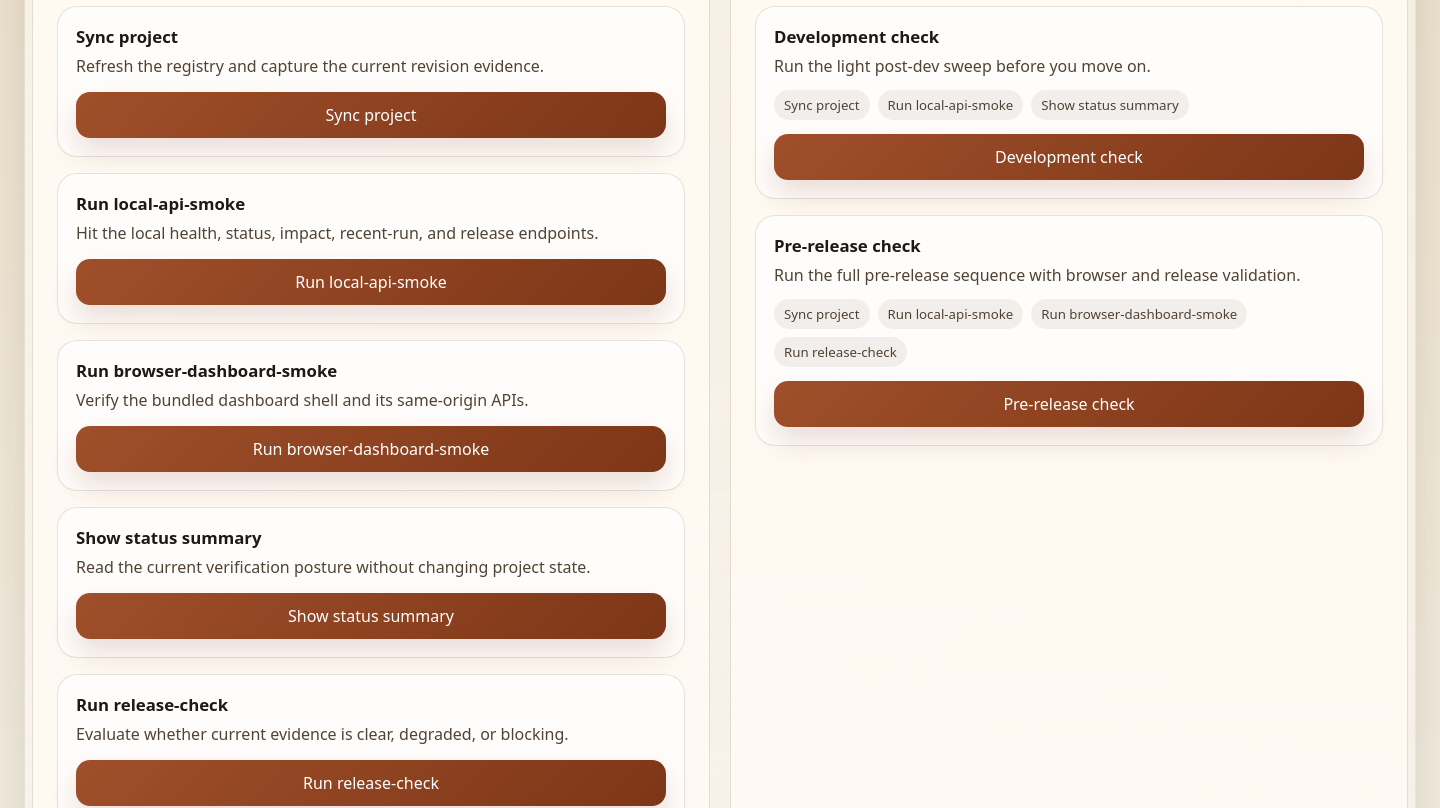
Scenario: Console App › runs a workflow and reveals step-level logs
(page scrolled)
Click the button "Pre-release check": [1069, 404] box [774,381,1364,427]
(page scrolled)
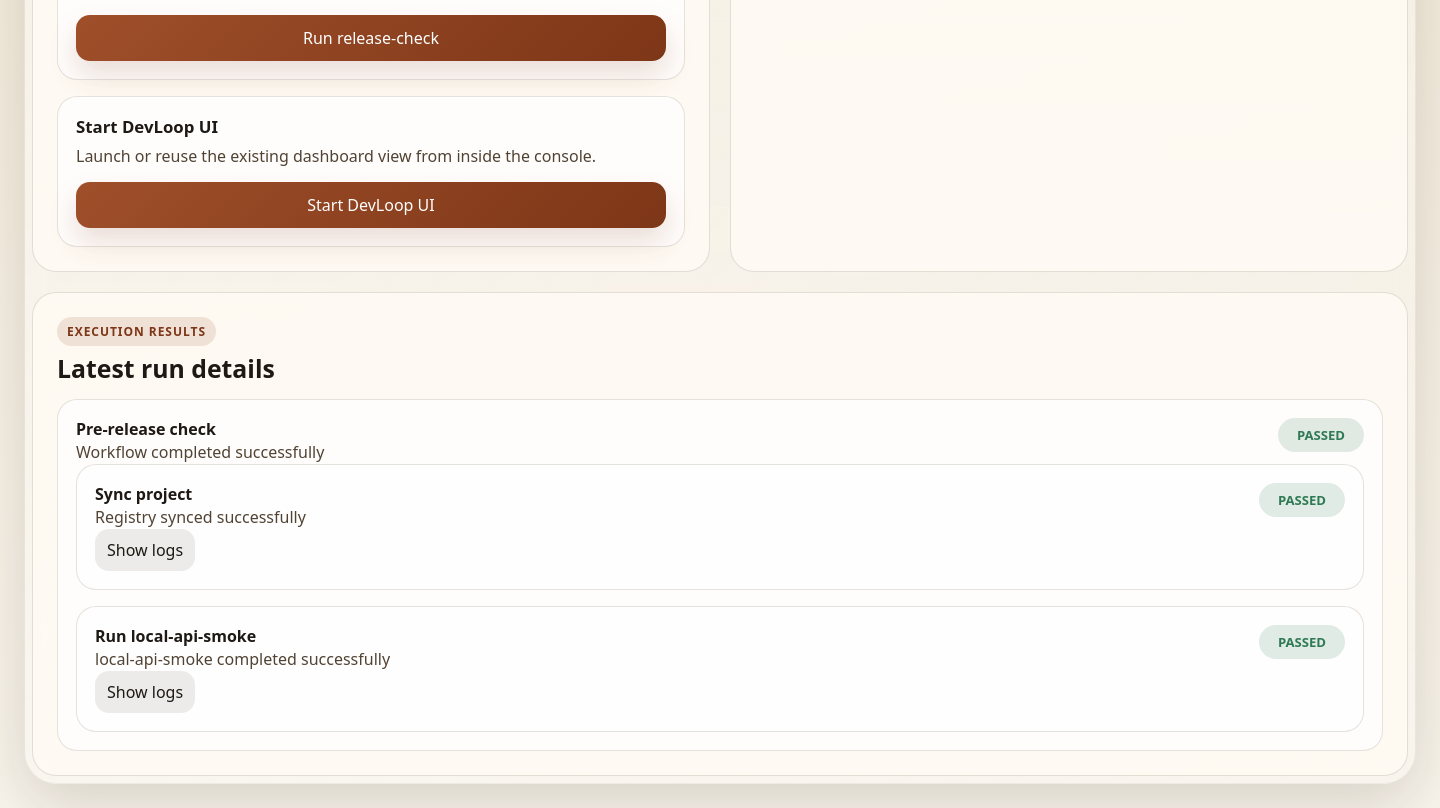
Expected: the element "Latest run details" is shown, [32,292,1408,776]
Expected: the text "Workflow completed successfully" is shown, [76,440,324,464]
Expected: the text "Registry synced successfully" is shown, [95,505,306,529]
Click the button "Show logs" below "local-api-smoke completed successfully": [145, 692] box [95,671,195,713]
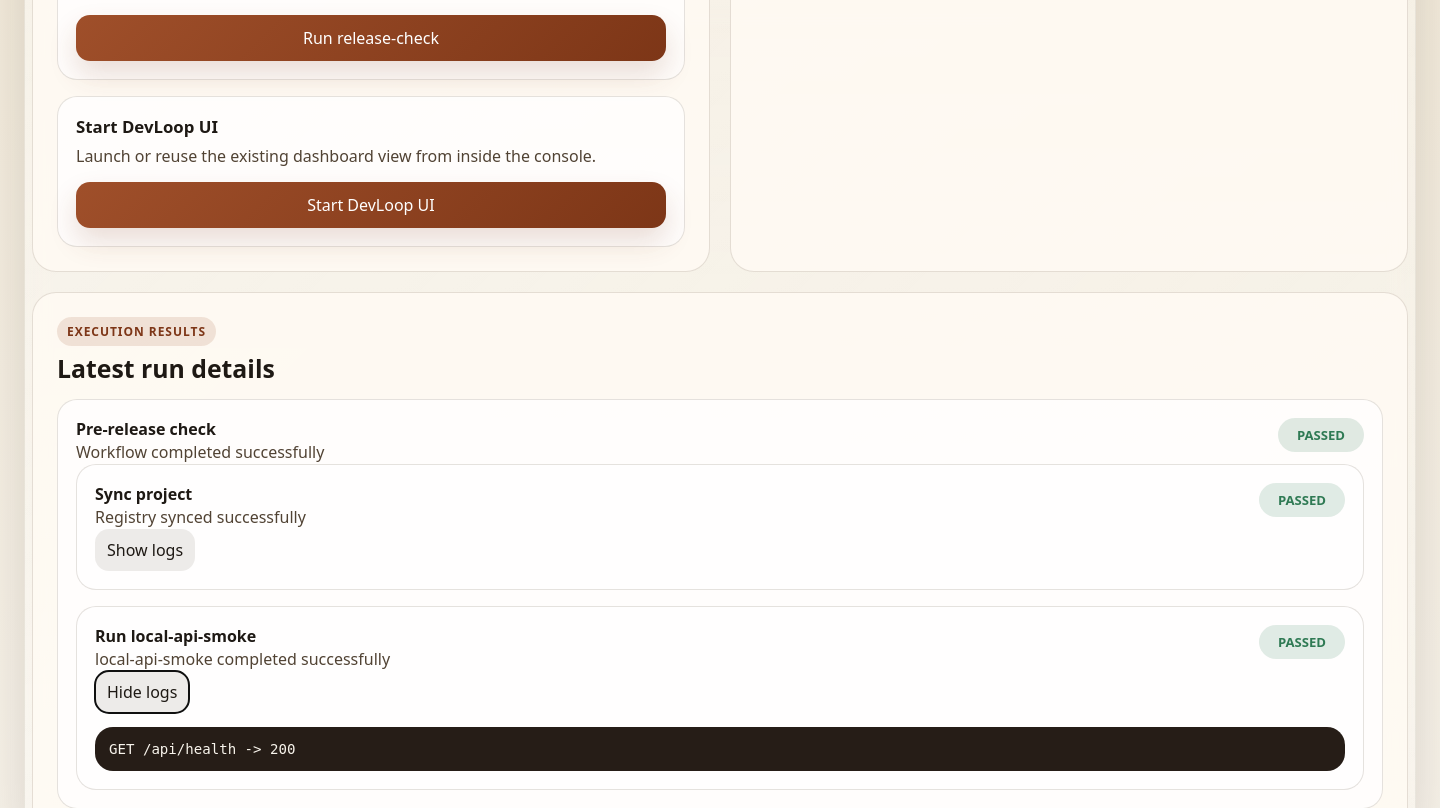
Expected: the text "GET /api/health -> 200" is shown, [109,741,296,757]
